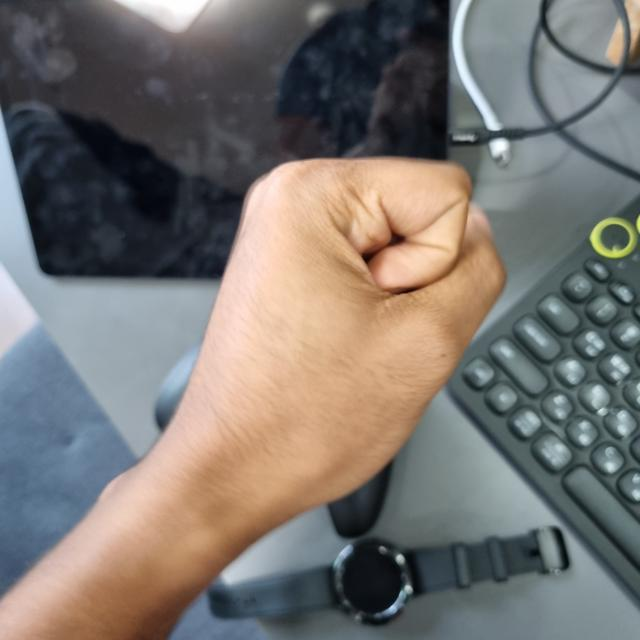Rock: (184, 156, 503, 502)
